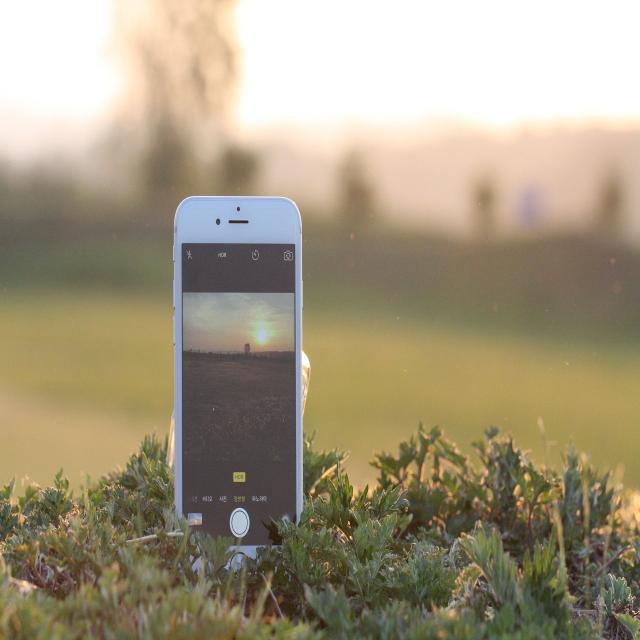Mobile: (164, 176, 316, 600)
